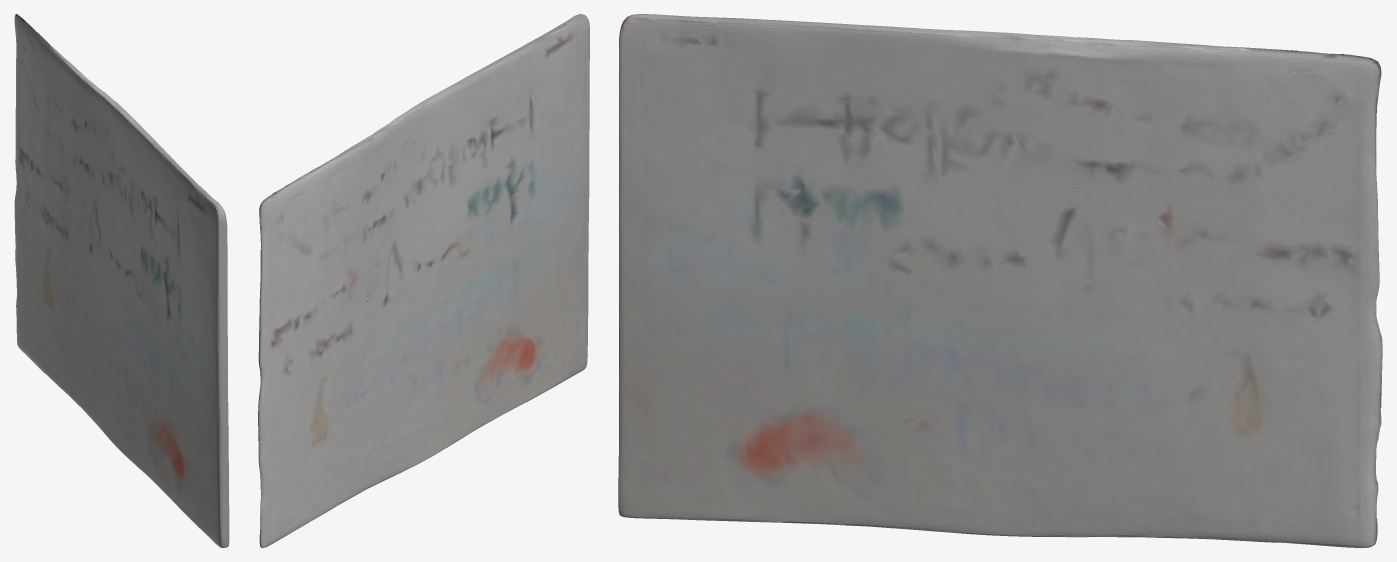
File: whiteboard_on_the_left_wall_000.glb
The picture shows the model from 3 angles, left to right: view 1: azimuth 30°, elevation 25°; view 2: azimuth 150°, elevation 25°; view 3: azimuth 270°, elevation 25°; orthographic projection. The views are drawn at different scales.
Visible parts, largest first — view 1: phase2_final_whiteboard_on_the_left_wall_000.obj; view 2: phase2_final_whiteboard_on_the_left_wall_000.obj; view 3: phase2_final_whiteboard_on_the_left_wall_000.obj.
Boxes of the visible parts, left/top/right/bottom form: phase2_final_whiteboard_on_the_left_wall_000.obj: left=14, top=14, right=229, bottom=547; phase2_final_whiteboard_on_the_left_wall_000.obj: left=258, top=14, right=589, bottom=547; phase2_final_whiteboard_on_the_left_wall_000.obj: left=618, top=14, right=1382, bottom=547.
Size of the model in its own units: 0.0767 by 0.4179 by 0.5798.
Materials: 1 (1 with a texture image).
